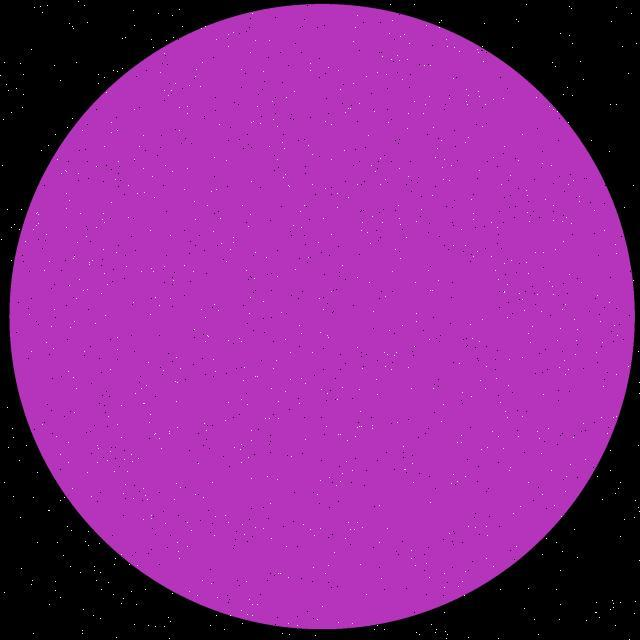Circle: (10, 5, 634, 629)
